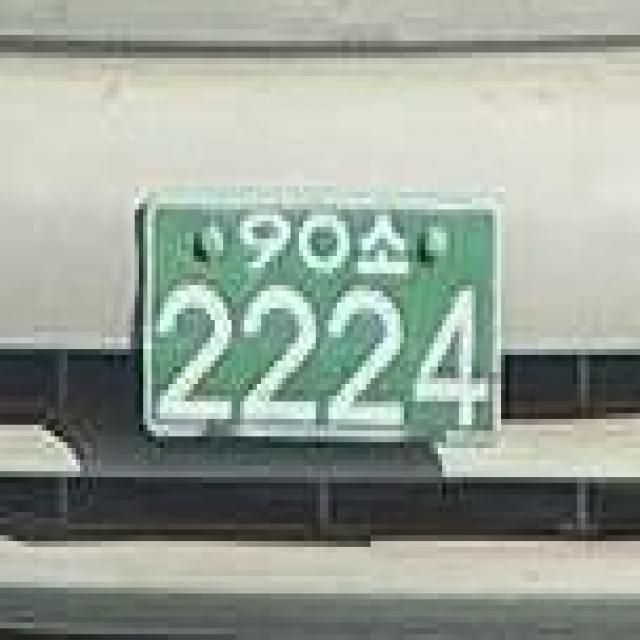illegal_plate: (128, 162, 516, 472)
